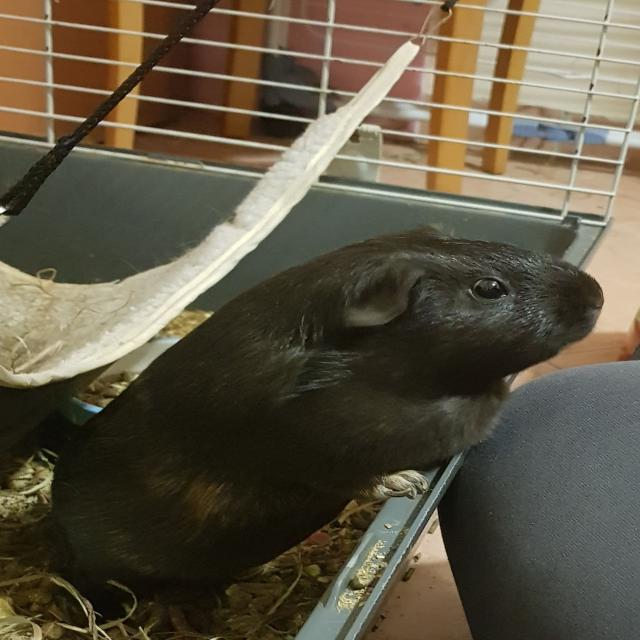guinea pig: (43, 228, 608, 618)
